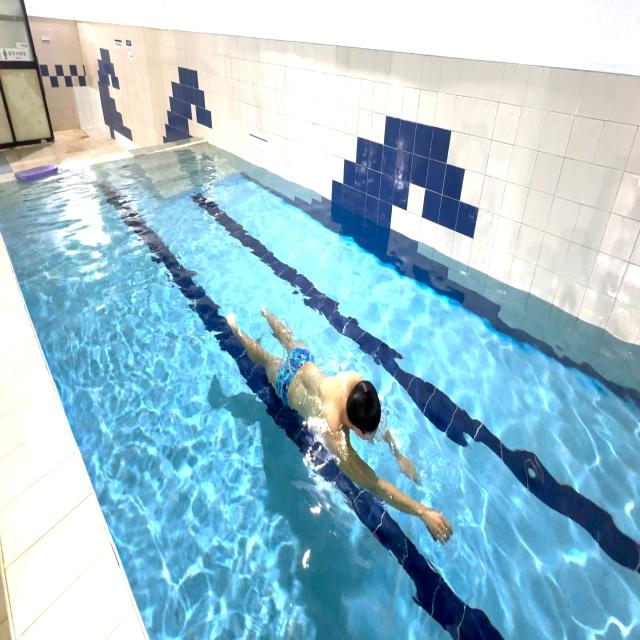Swimming: (218, 299, 456, 546)
